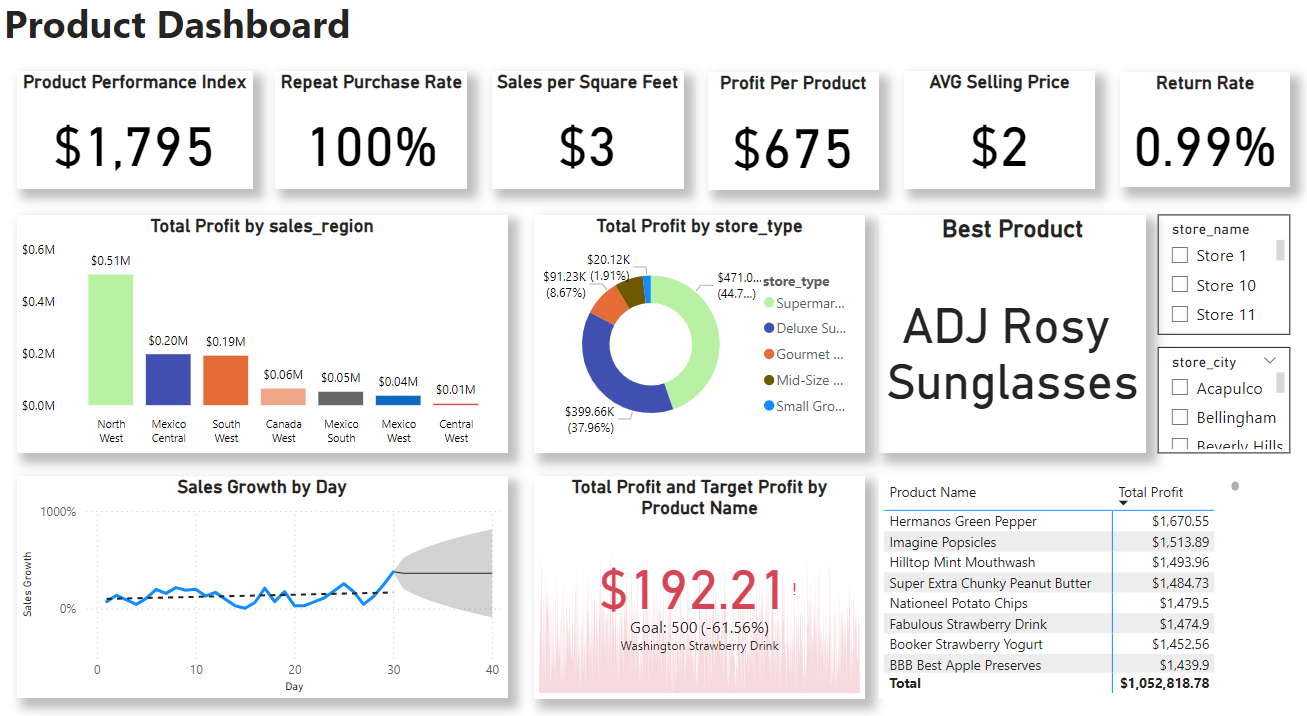

This screenshot's page, from the dashboard's own definition file:
{"tool":"powerbi","page":{"name":"Products Analysis","canvas":[1280,720],"ordinal":2},"visuals":[{"type":"card","title":"AVG Selling Price ","fields":{"Values":["Measures (2).AVG Selling Price"]},"box":[885,77.2,187,114.9],"z":0},{"type":"card","title":"Return Rate","fields":{"Values":["Measures (2).Return Rate"]},"box":[1096.5,78.5,166.2,112.5],"z":1000},{"type":"card","title":"Sales per Square Feet","fields":{"Values":["Measures (2).Sales per Square feet"]},"box":[481.6,77.2,188.3,114.9],"z":2000},{"type":"card","title":"Profit Per Product","fields":{"Values":["Measures (2).Profit per Product"]},"box":[693.1,78.5,167.5,114.9],"z":3000},{"type":"card","title":"Repeat Purchase Rate","fields":{"Values":["Measures (2).Repeat Purchase Rate"]},"box":[270.2,77.2,188.3,114.9],"z":4000},{"type":"card","title":"Product Performance Index","fields":{"Values":["Measures (2).Product Performance Index"]},"box":[17.1,77.2,231,114.9],"z":5000},{"type":"textbox","box":[0,0,775,66],"z":6000},{"type":"slicer","fields":{"Values":["Stores.store_name"]},"box":[1133.2,217.6,129.6,117.4],"z":7000},{"type":"donutChart","fields":{"Category":["Stores.store_type"],"Y":["Measures (2).Total Profit"]},"box":[523.2,217.6,323.9,233.5],"z":8000},{"type":"clusteredColumnChart","fields":{"Category":["Regions.sales_region"],"Y":["Measures (2).Total Profit"]},"box":[17.3,217.9,480.4,233.7],"z":9000},{"type":"lineChart","fields":{"Category":["Calendar.date.Variation.Date Hierarchy.Year","Calendar.date.Variation.Date Hierarchy.Quarter","Calendar.date.Variation.Date Hierarchy.Month","Calendar.date.Variation.Date Hierarchy.Day"],"Y":["Measures (2).Sales Growth"]},"box":[17.1,473.1,480.4,217.6],"z":10000},{"type":"kpi","fields":{"TrendLine":["Products.product_name"],"Indicator":["Measures (2).Total Profit"],"Goal":["Measures (2).Target Profit"]},"box":[523,473,324,218],"z":11000},{"type":"card","title":"Best Product","fields":{"Values":["Min(Products.Product Name)"]},"box":[860.6,217.6,261.6,233.5],"z":12000},{"type":"slicer","fields":{"Values":["Stores.store_city"]},"box":[1133.2,347.2,129.6,103.9],"z":13000},{"type":"pivotTable","fields":{"Rows":["Products.product_name"],"Values":["Measures (2).Total Profit"]},"box":[860.6,473.1,358.2,217.6],"z":14000}]}

Visuals, with their boxes in screenshot pixels (x1, y1, x2, y2), scaled from the page's 1280x720 canvas onto the 1307x716 screenshot:
"AVG Selling Price " card: (x1=904, y1=77, x2=1095, y2=191)
"Return Rate" card: (x1=1120, y1=78, x2=1289, y2=190)
"Sales per Square Feet" card: (x1=492, y1=77, x2=684, y2=191)
"Profit Per Product" card: (x1=708, y1=78, x2=879, y2=192)
"Repeat Purchase Rate" card: (x1=276, y1=77, x2=468, y2=191)
"Product Performance Index" card: (x1=17, y1=77, x2=253, y2=191)
textbox: (x1=0, y1=0, x2=791, y2=66)
slicer - Stores.store_name: (x1=1157, y1=216, x2=1289, y2=333)
donutChart - Stores.store_type x Measures (2).Total Profit: (x1=534, y1=216, x2=865, y2=449)
clusteredColumnChart - Regions.sales_region x Measures (2).Total Profit: (x1=18, y1=217, x2=508, y2=449)
lineChart - Calendar.date.Variation.Date Hierarchy.Year x Calendar.date.Variation.Date Hierarchy.Quarter: (x1=17, y1=470, x2=508, y2=687)
kpi - Products.product_name x Measures (2).Total Profit: (x1=534, y1=470, x2=865, y2=687)
"Best Product" card: (x1=879, y1=216, x2=1146, y2=449)
slicer - Stores.store_city: (x1=1157, y1=345, x2=1289, y2=449)
pivotTable - Products.product_name x Measures (2).Total Profit: (x1=879, y1=470, x2=1245, y2=687)
